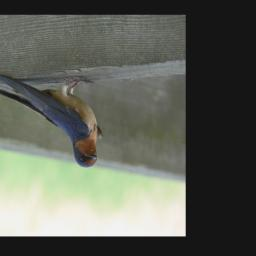Swallow: (0, 71, 104, 171)
